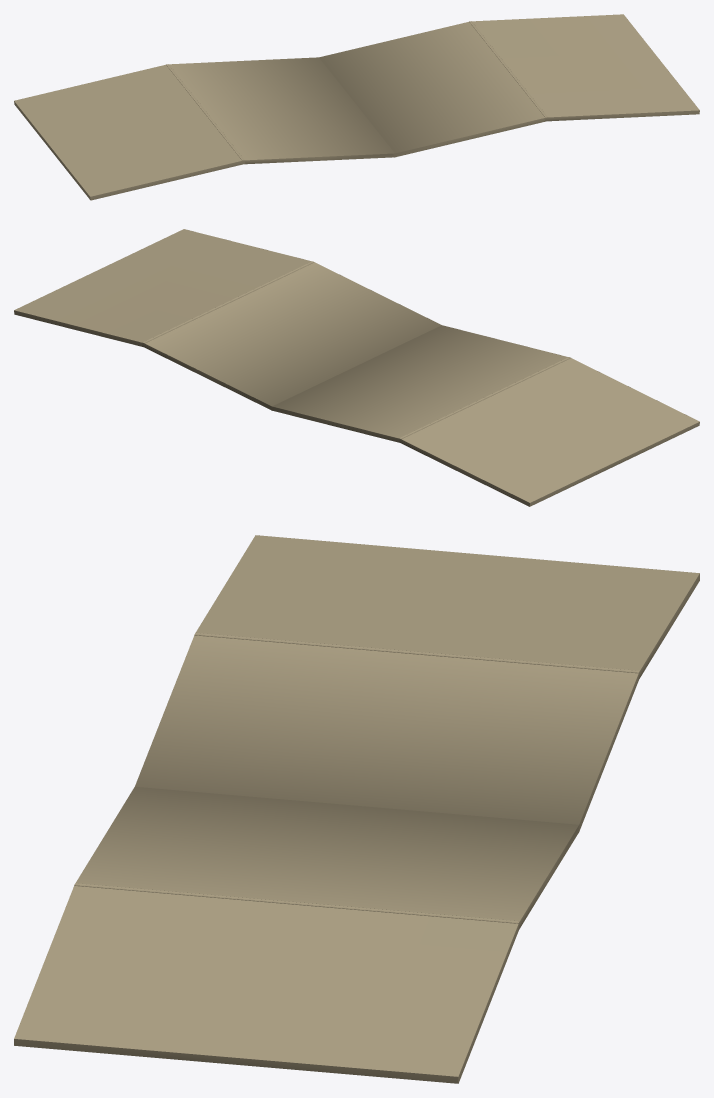
File: codex.glb
The picture shows the model from 3 angles, top to bottom: view 1: azimuth 30°, elevation 25°; view 2: azimuth 150°, elevation 25°; view 3: azimuth 270°, elevation 25°; orthographic projection. The views are drawn at different scales.
Parts seen in each view (by area): view 1: tex_panels, base; view 2: tex_panels, base; view 3: tex_panels, base.
Boxes of the visible parts, x1,y1,x2,y2 form: tex_panels: [14, 14, 699, 196]; base: [14, 14, 699, 200]; tex_panels: [14, 229, 699, 502]; base: [14, 249, 699, 506]; tex_panels: [14, 535, 699, 1076]; base: [14, 535, 699, 1083].
Bounding box in the file's own units: 0.2544 × 0.00772 × 0.1361.
